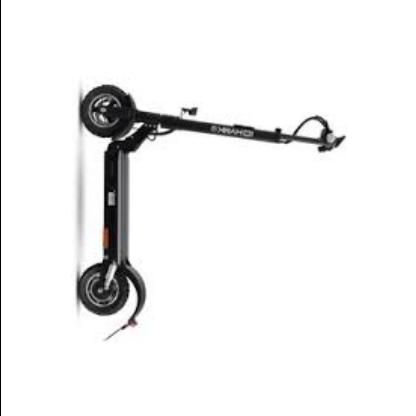bike: (77, 83, 348, 341)
